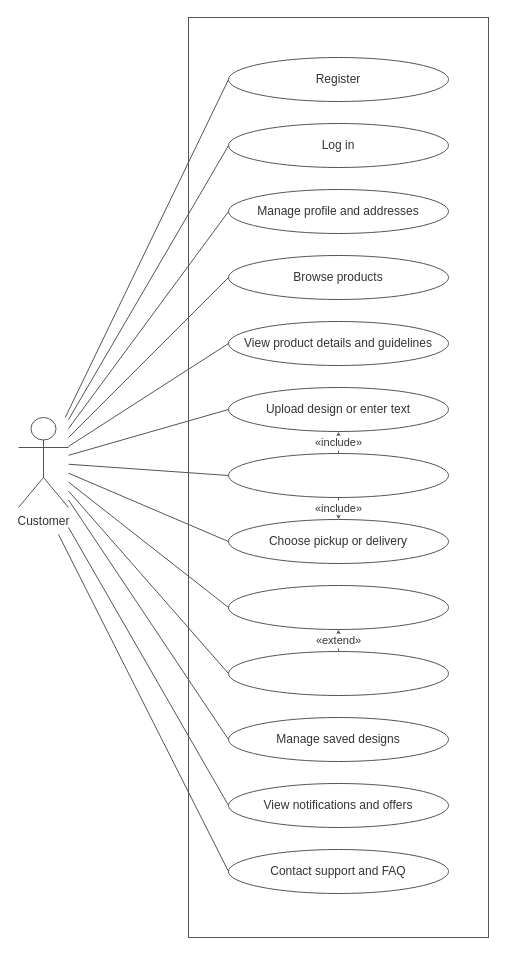
This 506x955 diagram has some shape labels left out. The centre of each missing label's shape, as x and y in pixels:
"Place an order" goes at pixel 338 475.
"Reschedule or cancel order" goes at pixel 338 673.
"Track order status" goes at pixel 338 607.
